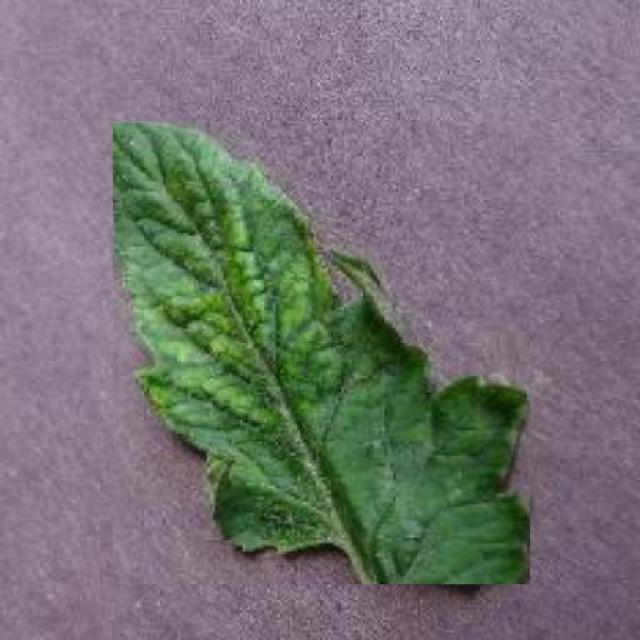Mosaic Virus: (113, 122, 530, 585)
